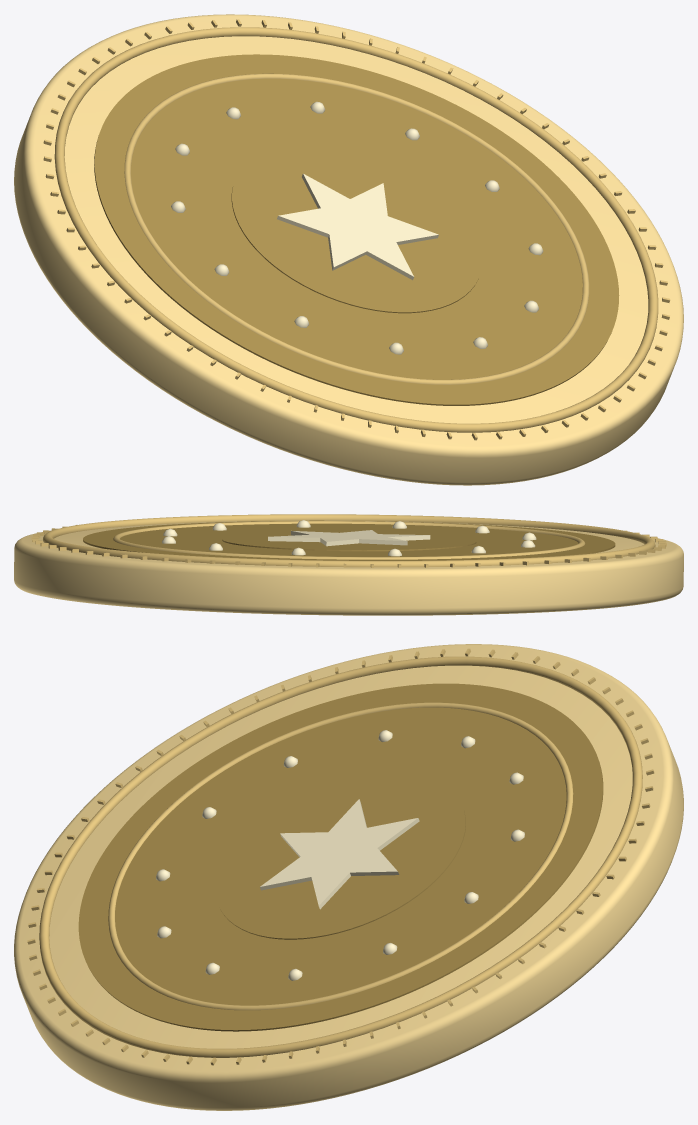
The picture shows the model from 3 angles, top to bottom: view 1: azimuth 30°, elevation 25°; view 2: azimuth 150°, elevation 25°; view 3: azimuth 270°, elevation 25°; orthographic projection. The views are drawn at different scales.
Parts seen in each view (by area): view 1: Coin_Detail_01, Main_Coin, Coin_Detail_03, Coin_Outer_Rim, Coin_Inner_Rim, Center_Emblem, Coin_Detail_02, Coin_Detail_04; view 2: Main_Coin, Coin_Detail_01, Coin_Outer_Rim, Coin_Inner_Rim, Coin_Detail_03, Center_Emblem, Coin_Detail_02, Coin_Detail_04; view 3: Coin_Detail_01, Main_Coin, Coin_Detail_03, Coin_Outer_Rim, Coin_Inner_Rim, Center_Emblem, Coin_Detail_02, Coin_Detail_04.
Boxes of the visible parts, x1,y1,x2,y2 form: Coin_Detail_01: (94, 54, 619, 405); Main_Coin: (14, 14, 683, 485); Coin_Detail_03: (231, 145, 482, 313); Coin_Outer_Rim: (54, 27, 658, 432); Coin_Inner_Rim: (124, 73, 589, 384); Center_Emblem: (277, 173, 438, 280); Coin_Detail_02: (43, 19, 670, 440); Coin_Detail_04: (171, 101, 543, 354); Main_Coin: (14, 520, 683, 615); Coin_Detail_01: (83, 520, 615, 560); Coin_Outer_Rim: (43, 514, 655, 567); Coin_Inner_Rim: (113, 521, 585, 559); Coin_Detail_03: (222, 530, 476, 551); Center_Emblem: (268, 530, 430, 546); Coin_Detail_02: (31, 525, 666, 567); Coin_Detail_04: (162, 520, 536, 556); Coin_Detail_01: (78, 683, 603, 1031); Main_Coin: (14, 644, 683, 1110); Coin_Detail_03: (215, 773, 465, 939); Coin_Outer_Rim: (39, 656, 642, 1057); Coin_Inner_Rim: (108, 702, 573, 1010); Center_Emblem: (260, 799, 419, 909); Coin_Detail_02: (27, 648, 654, 1065); Coin_Detail_04: (156, 730, 524, 980).
Size of the model in its own units: 1.99 by 0.8206 by 1.93.
